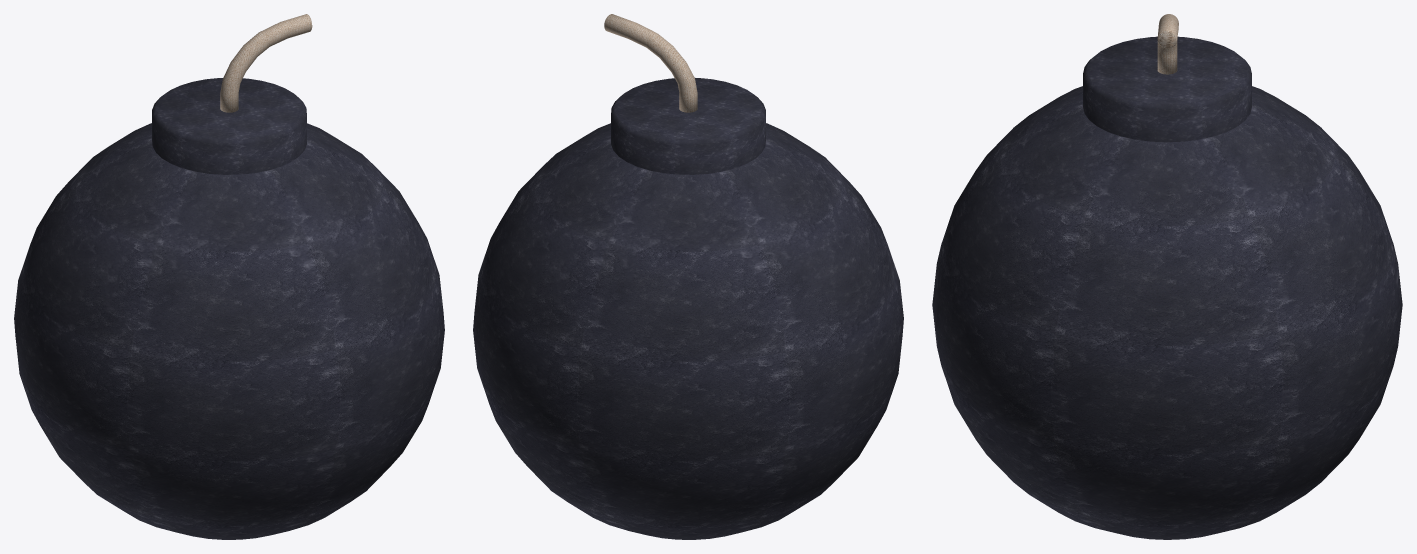
File: bomb.fbx
3 views of the same model, side by side, from view 1: azimuth 30°, elevation 25°; view 2: azimuth 150°, elevation 25°; view 3: azimuth 270°, elevation 25° (orthographic). The views are drawn at different scales.
Visible parts, largest first — view 1: Sphere; view 2: Sphere; view 3: Sphere.
Part boxes in pixels (x1=…): Sphere: x1=14, y1=14, x2=444, y2=539; Sphere: x1=473, y1=14, x2=903, y2=539; Sphere: x1=932, y1=14, x2=1402, y2=539.
Size of the model in its own units: 200 by 248 by 200.
3 materials, 3 textured.
